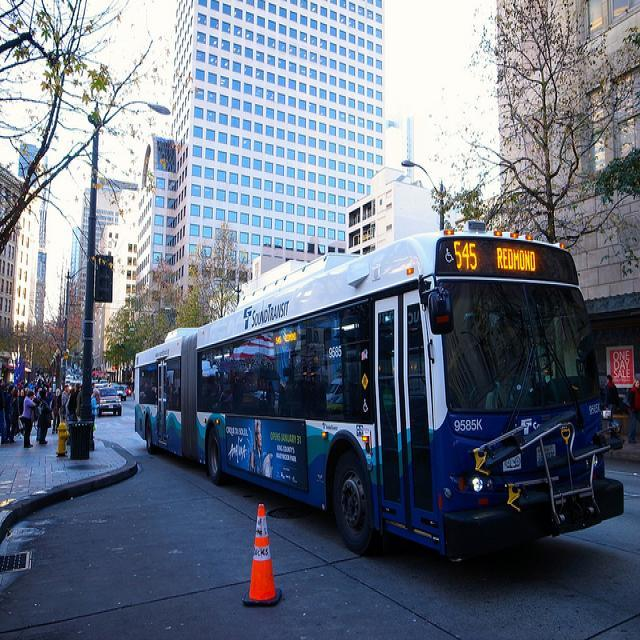fire_hydrant: (54, 421, 70, 456)
